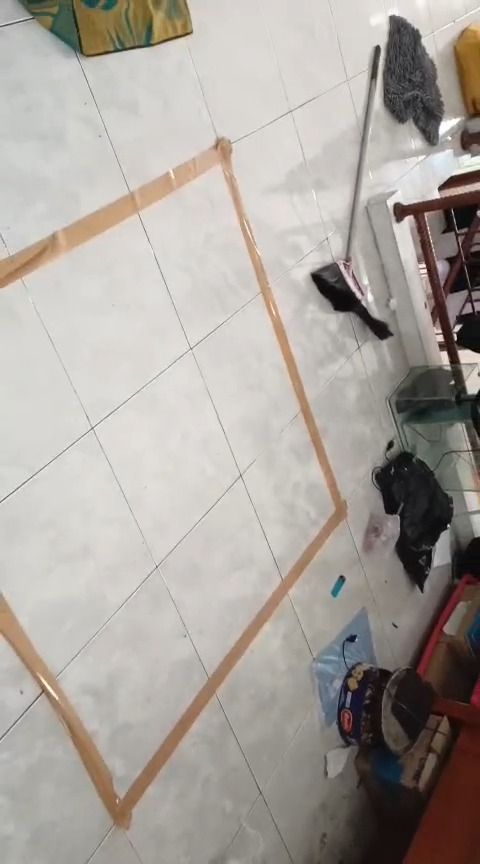floor marking: (0, 138, 346, 828)
